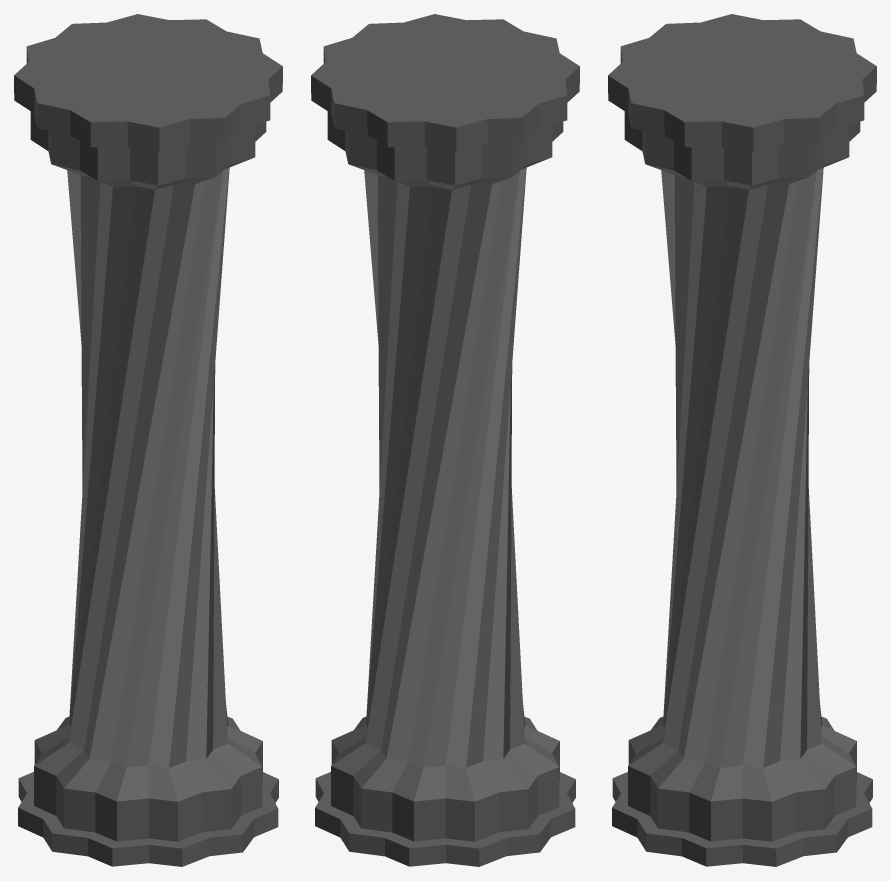
File: Pillar_06.fbx
3 renders of one model, left to right at view 1: azimuth 30°, elevation 25°; view 2: azimuth 150°, elevation 25°; view 3: azimuth 270°, elevation 25°, orthographic.
Visible parts, largest first — view 1: Pillar_06; view 2: Pillar_06; view 3: Pillar_06.
Part boxes in pixels (x1,y1,x2,y2): Pillar_06: (14,14,282,866); Pillar_06: (311,14,579,866); Pillar_06: (608,14,876,866).
Size of the model in its own units: 82.86 by 252 by 82.86.
